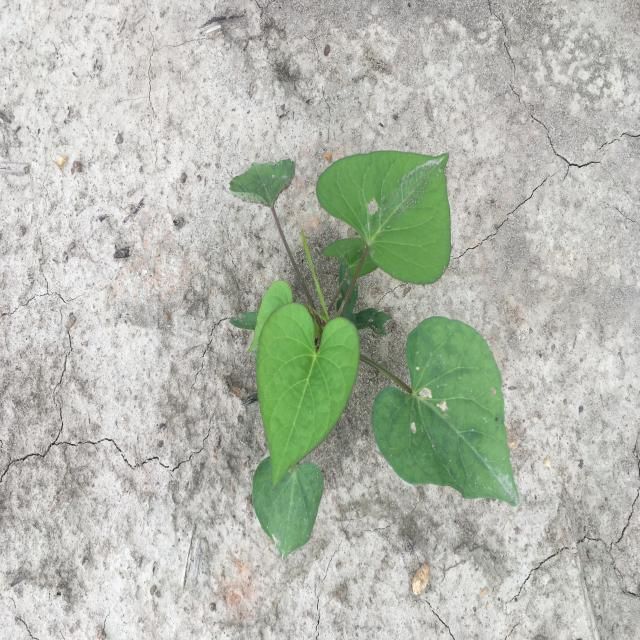MorningGlory: (228, 150, 520, 562)
